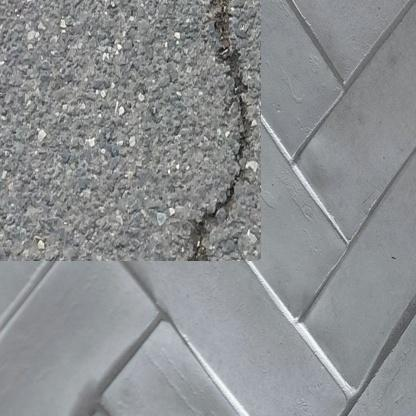Cracks: (174, 0, 231, 241)
